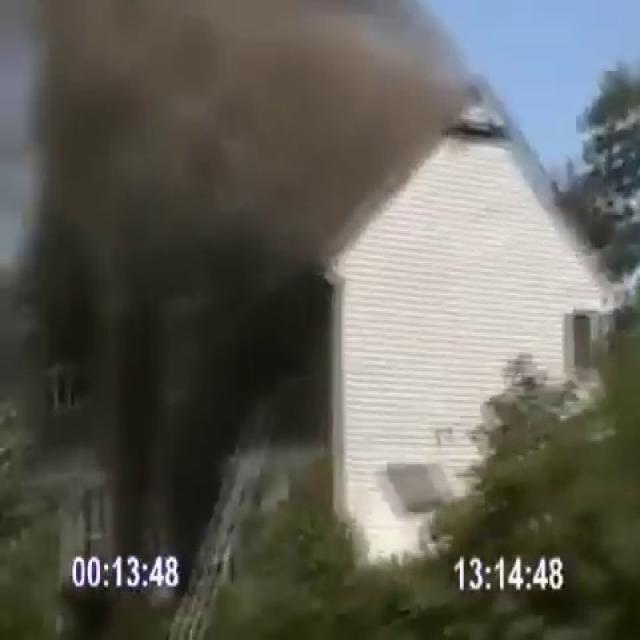Smoke: (0, 0, 480, 317)
